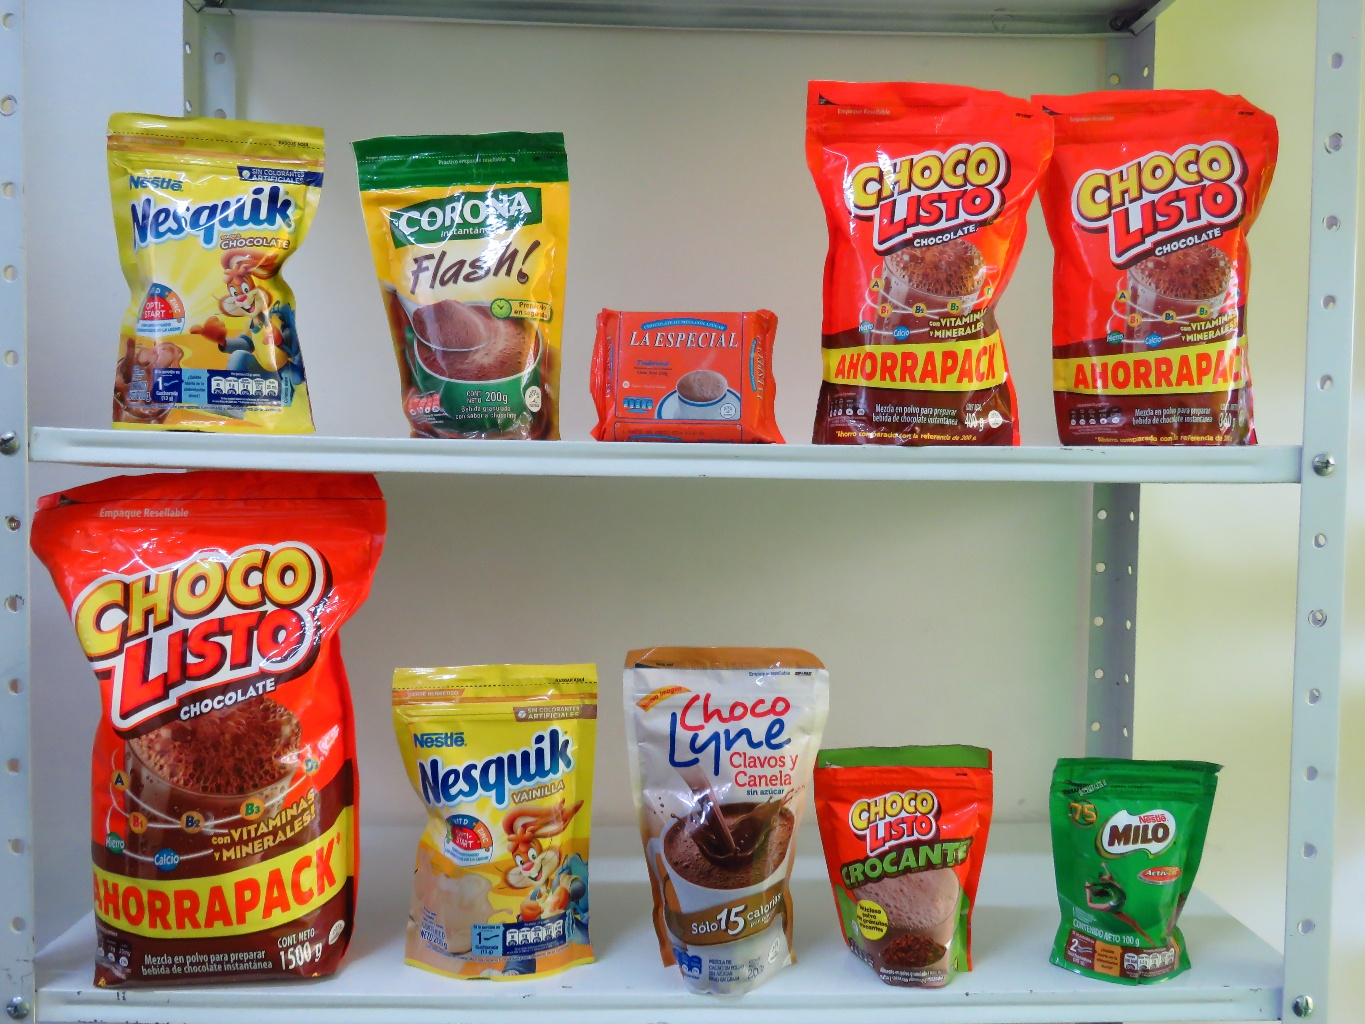COL0170102DYP10000: (786, 721, 1020, 998)
COL0170103DYP1,500: (6, 447, 398, 1006)
COL0170103DYP36000: (1024, 66, 1297, 463)
COL0170103DYP40000: (780, 72, 1055, 456)
COL0170203DYP10000: (1024, 727, 1249, 1000)
COL0170303DYP20000: (59, 99, 376, 444)
COL0170306DYP20000: (362, 642, 623, 996)
